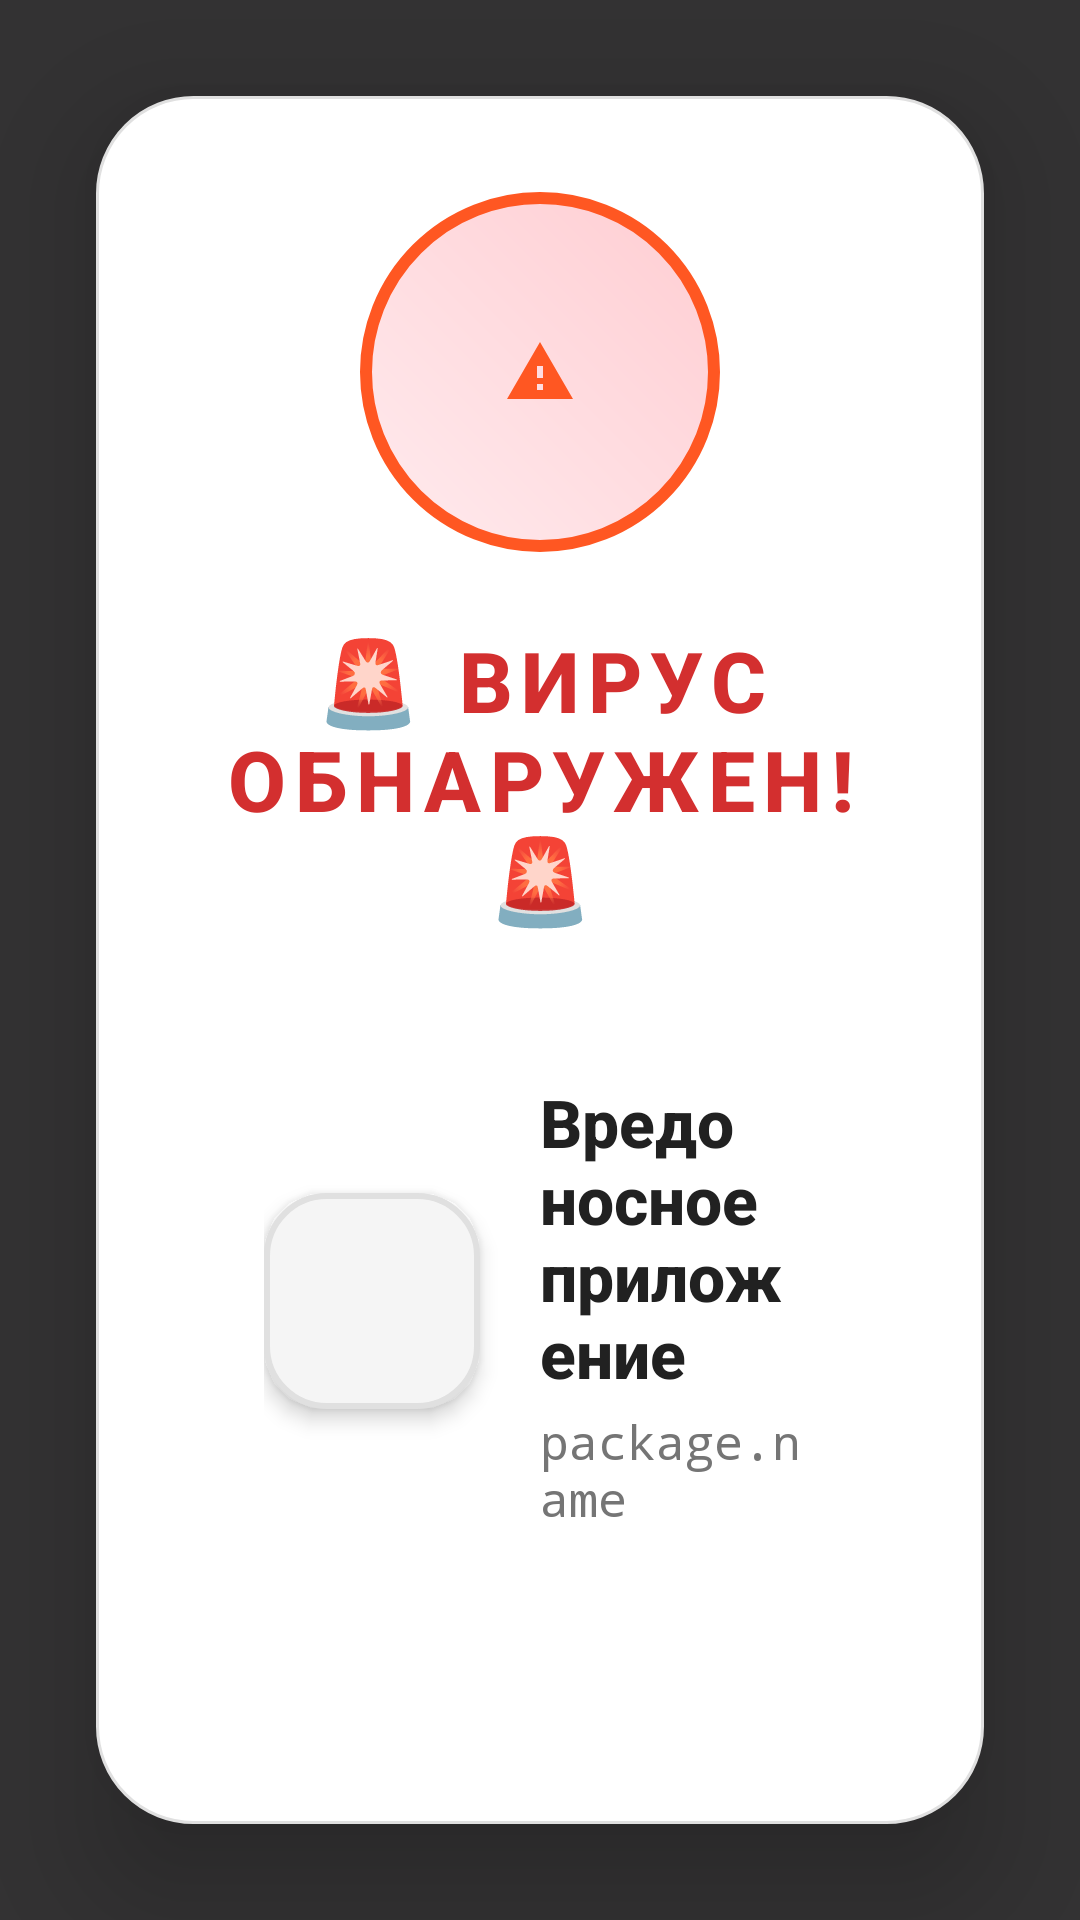

Icons on this 1080 x 1920 Android screen, each with the point to tap as [x,y]:
warning: [540,372]
